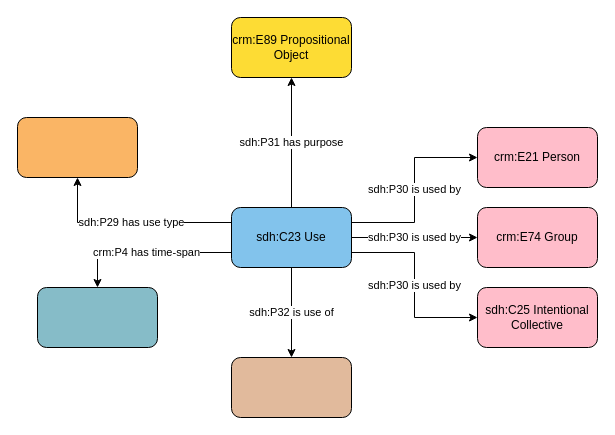
Image size: 615x435. Some labels were removed from this diagram. Here are the shapes that lost their labels. From the top down, the centre of each, then its label:
At point 77,147: "sdh:C24 Use Type".
At point 97,317: "E52_Time-Span".
At point 291,387: "sdh:C17 Construction".
